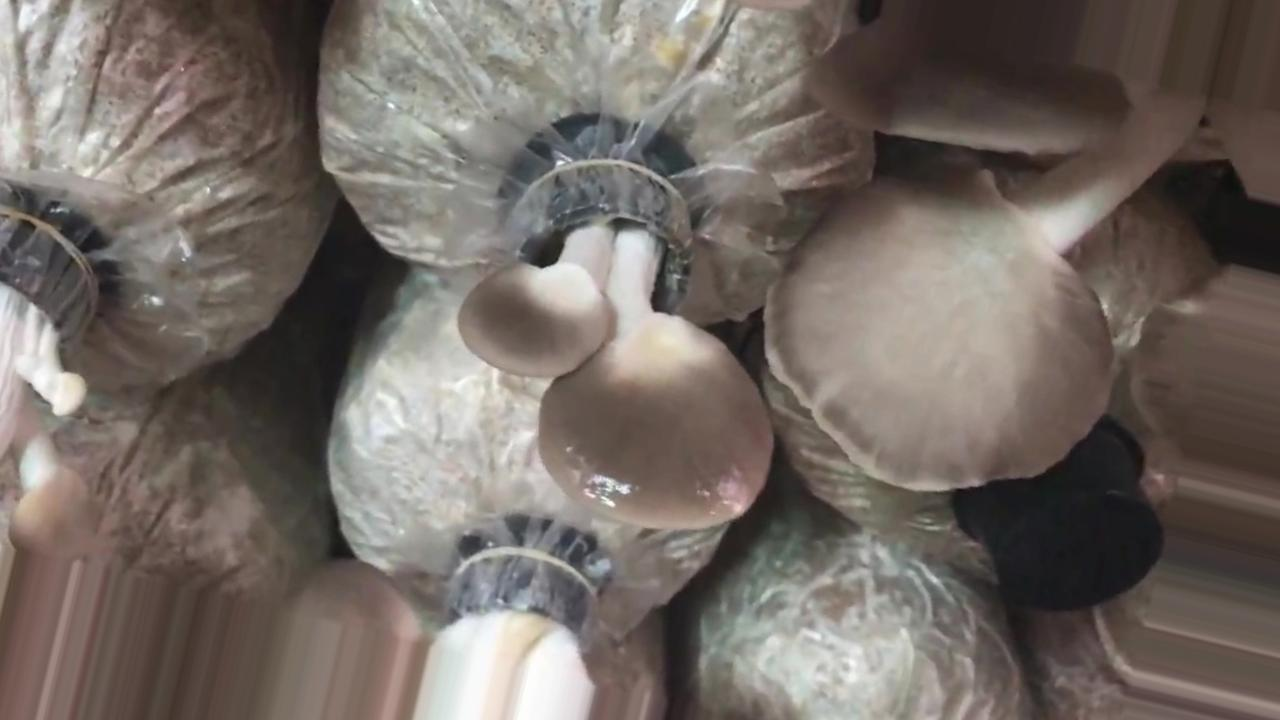nam: (763, 1, 1280, 491), (457, 105, 775, 534)
